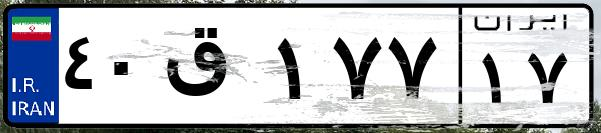0: (110, 28, 158, 98)
1: (270, 28, 330, 110), (475, 38, 525, 113)
4: (57, 26, 110, 100)
7: (385, 28, 445, 110), (330, 28, 385, 110), (525, 38, 570, 115)
ق: (158, 20, 270, 120)
